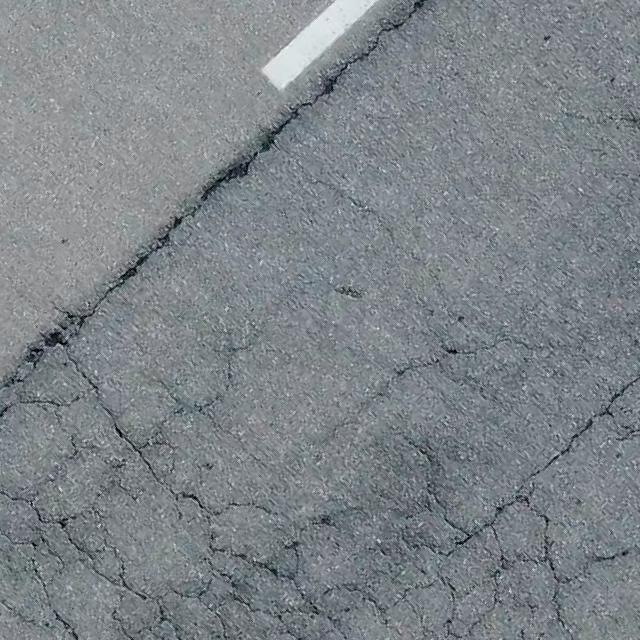GRIETA: (52, 0, 425, 334), (313, 178, 393, 239), (208, 330, 258, 405)
PIEL DE COCODRILO: (0, 331, 639, 639)
